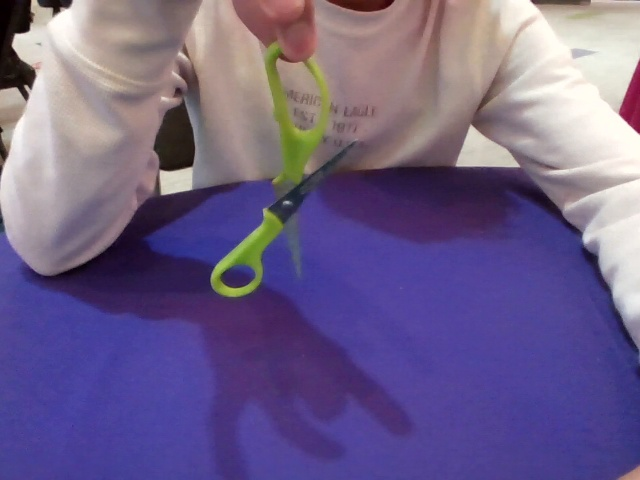tijeras: (209, 137, 359, 299)
